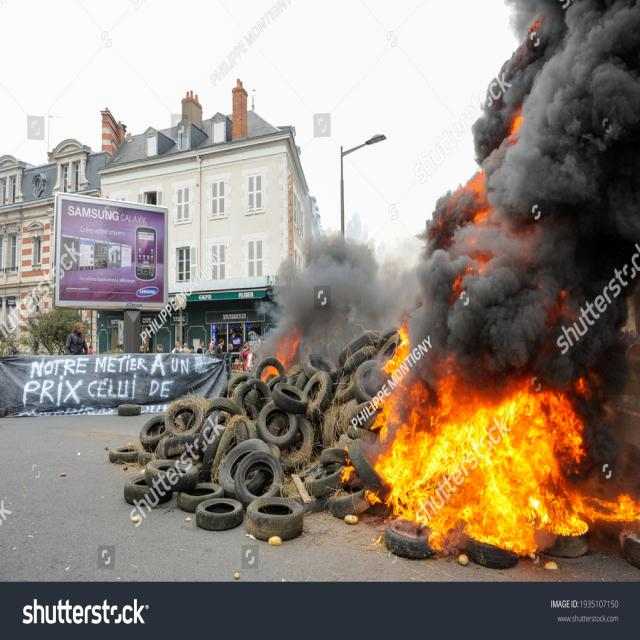fire: (376, 386, 586, 557), (430, 169, 539, 303), (408, 347, 532, 388), (372, 327, 408, 428), (587, 494, 640, 522), (543, 293, 576, 335)
